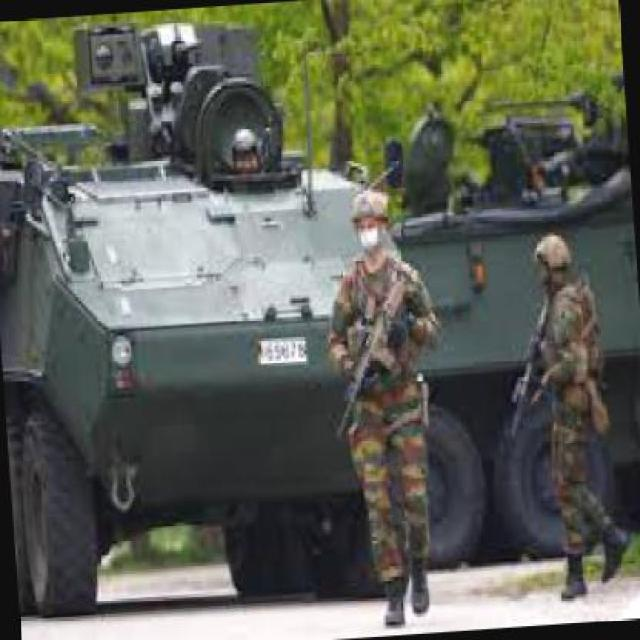MIL_Pax: (314, 184, 458, 627), (526, 230, 632, 602), (226, 126, 263, 177)
